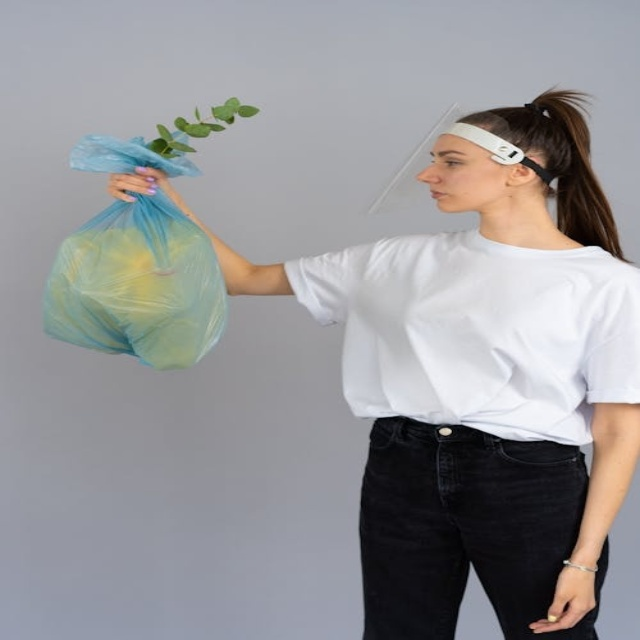Sin_gafas: (425, 149, 480, 168)
Sin_guantes: (518, 560, 609, 636), (101, 160, 179, 207)
Sin_mascara: (428, 183, 472, 212)
